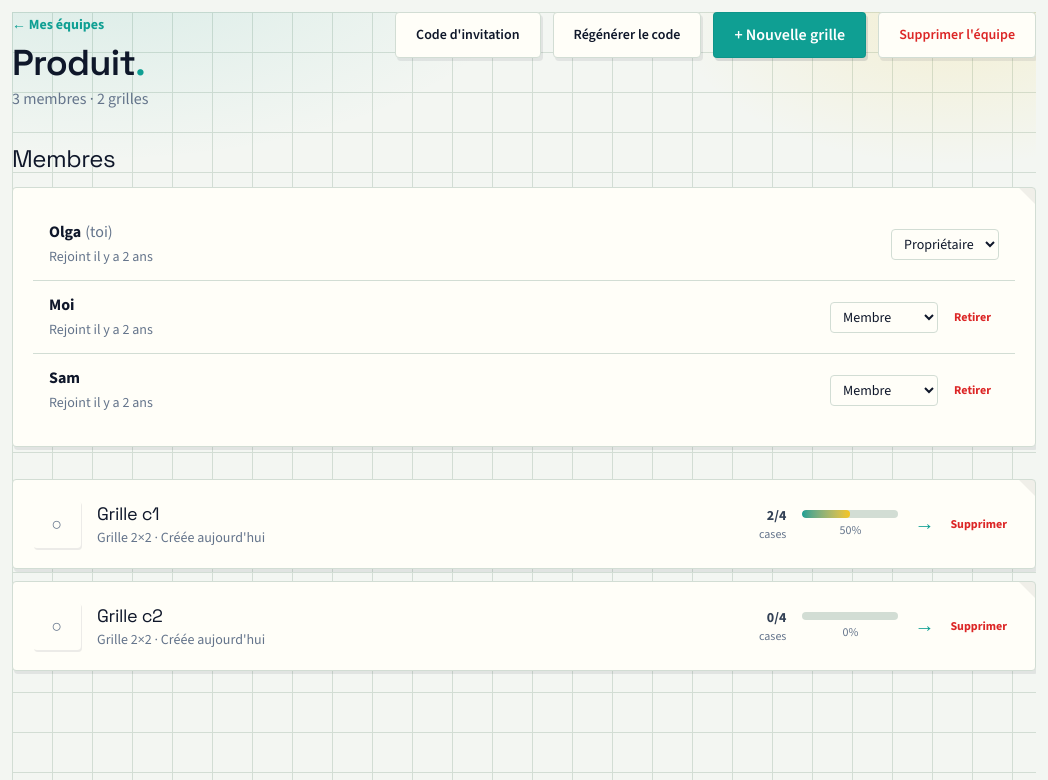
Test: TeamClient — membres › propose à l'OWNER de retirer un membre
Click the button "Retirer" in the row of "Moi".
click(973, 317)  # box [946,305,999,329]
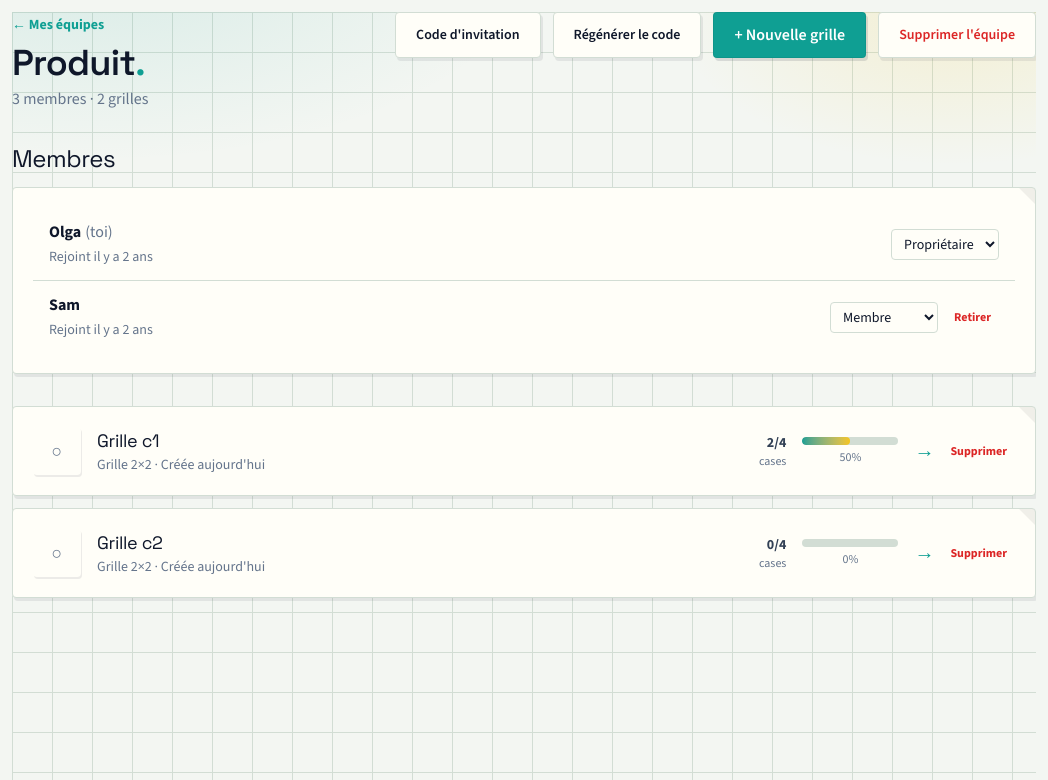
Expected: the text "Moi" is gone
